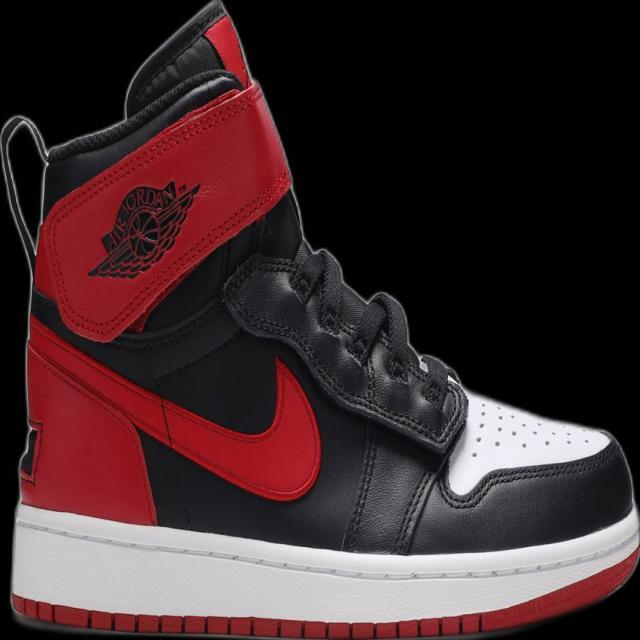J1_InsoleChar: (1, 1, 638, 638)
J1_ShoeLogo: (86, 178, 201, 280)
J1_StitchPattern: (218, 242, 617, 506), (9, 505, 637, 588), (219, 244, 467, 452), (338, 388, 612, 554), (8, 594, 485, 638), (338, 437, 445, 555), (446, 439, 620, 508), (469, 397, 602, 458), (338, 431, 379, 553), (391, 465, 441, 554)
